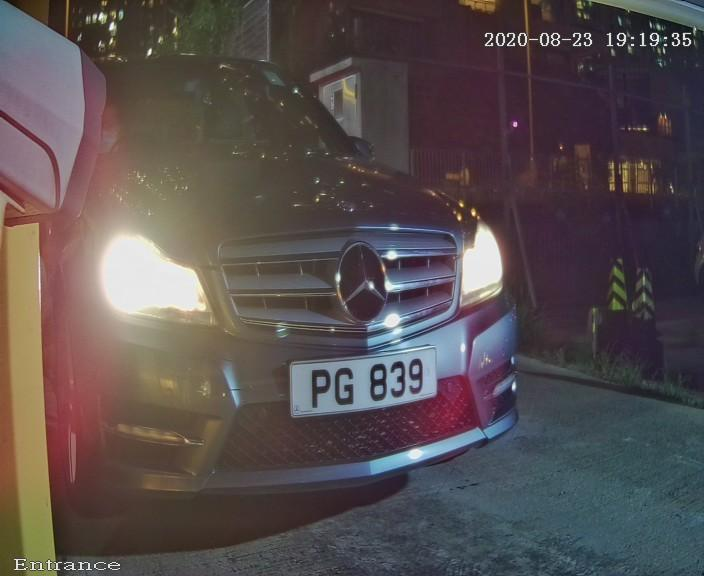License Plate: (250, 313, 473, 439)
